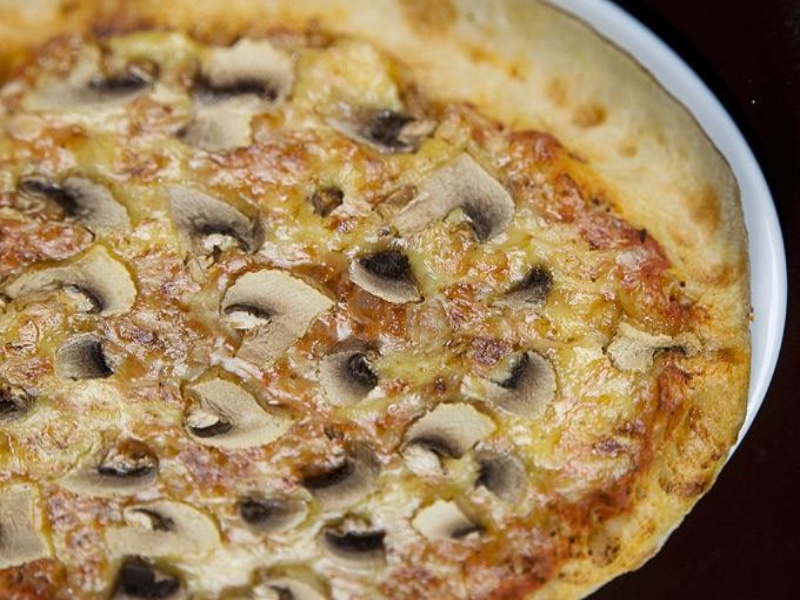champignon: (216, 266, 340, 368), (181, 366, 298, 460)
